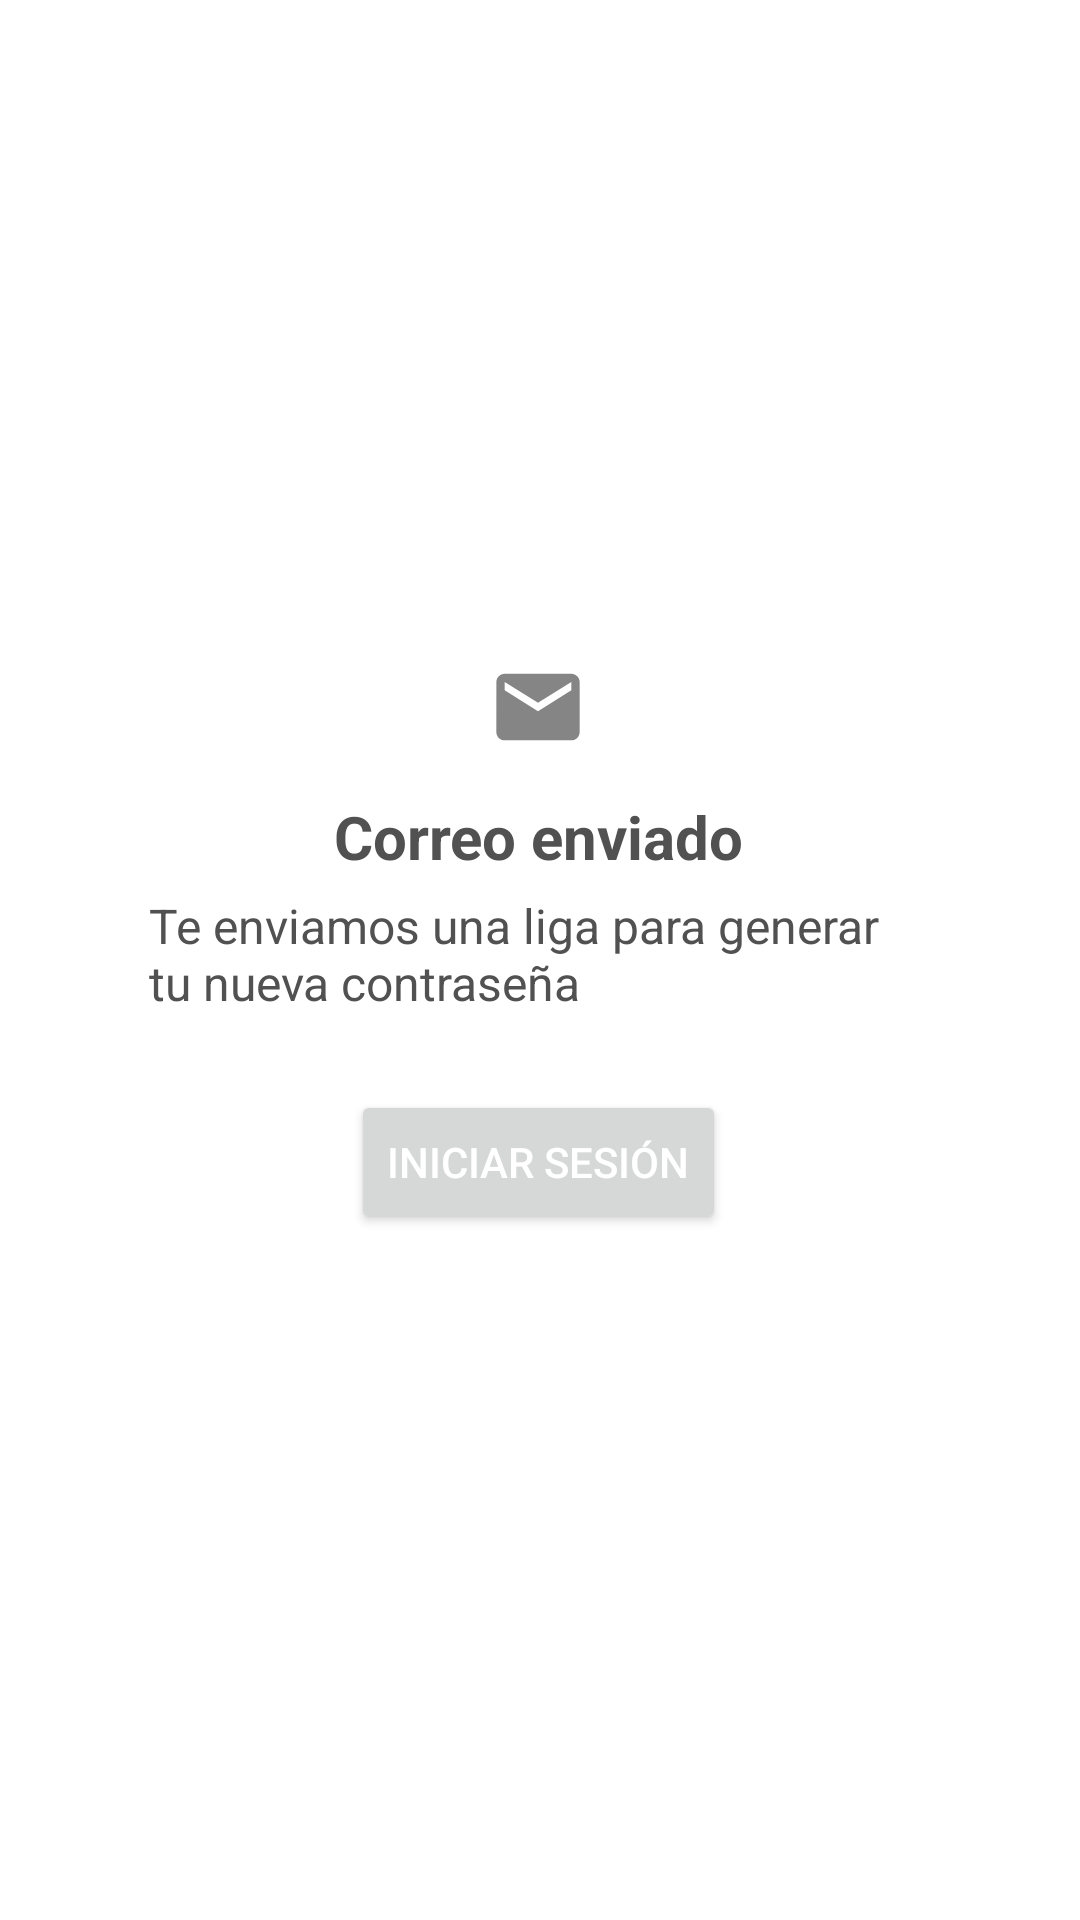

Point at icon controls on the screen. Image size 1080 × 1920, points as (x,y).
email: (538,707)
